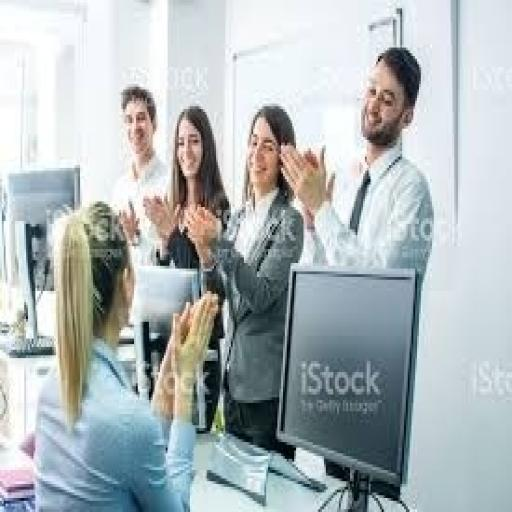clapping: (30, 199, 220, 509), (182, 101, 306, 456), (277, 42, 436, 280), (140, 104, 231, 272)
